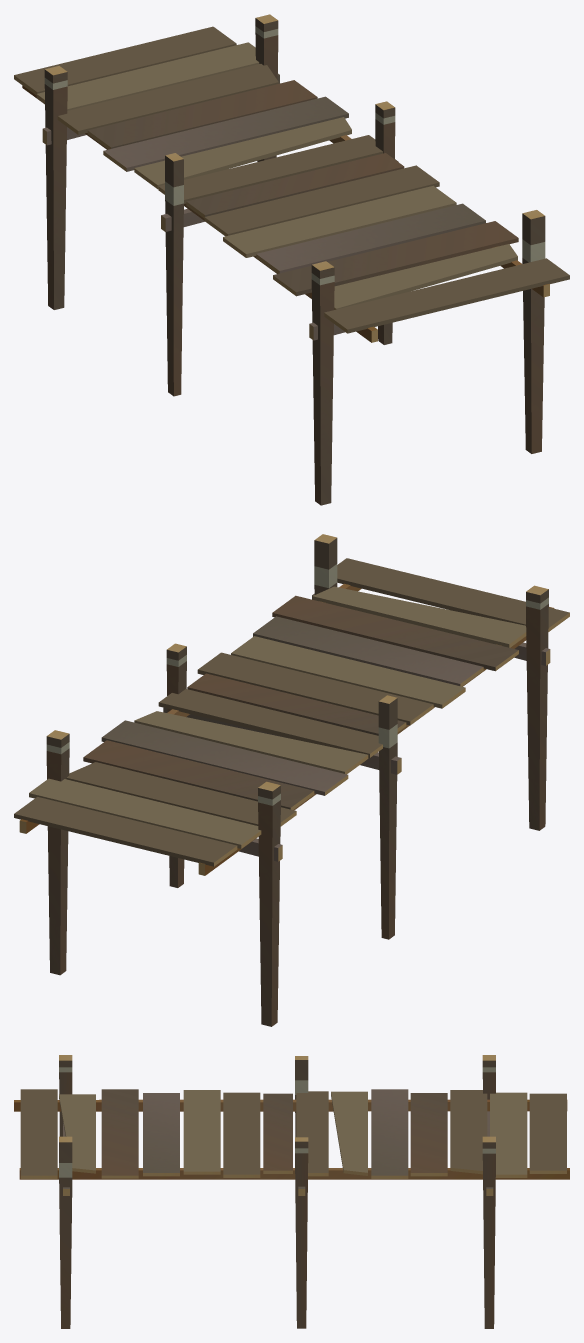
File: Dock_1_LOD1.fbx
3 views of the same model, one above another, from view 1: azimuth 30°, elevation 25°; view 2: azimuth 150°, elevation 25°; view 3: azimuth 270°, elevation 25° (orthographic). The views are drawn at different scales.
Visible parts, largest first — view 1: polySurface9918; view 2: polySurface9918; view 3: polySurface9918.
Boxes of the visible parts, x1,y1,x2,y2 form: polySurface9918: [14, 14, 569, 505]; polySurface9918: [14, 534, 569, 1026]; polySurface9918: [14, 1055, 569, 1328].
Size of the model in its own units: 400 by 388 by 1042.
